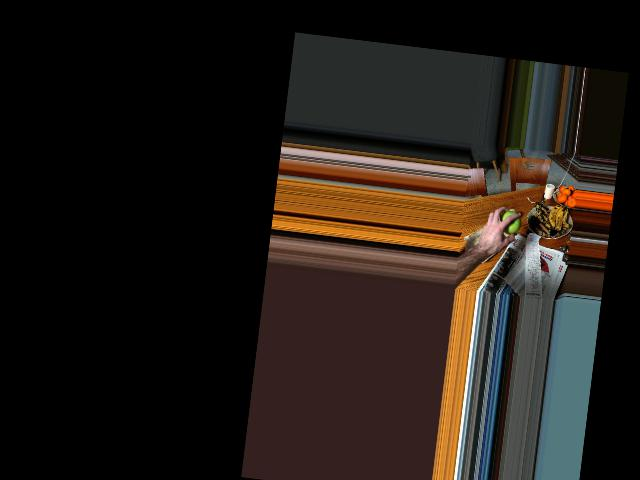apple: (497, 209, 521, 236)
